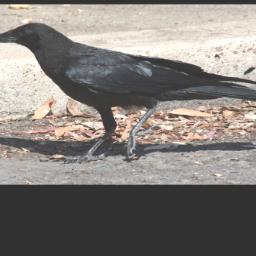Crow: (0, 20, 256, 162)
